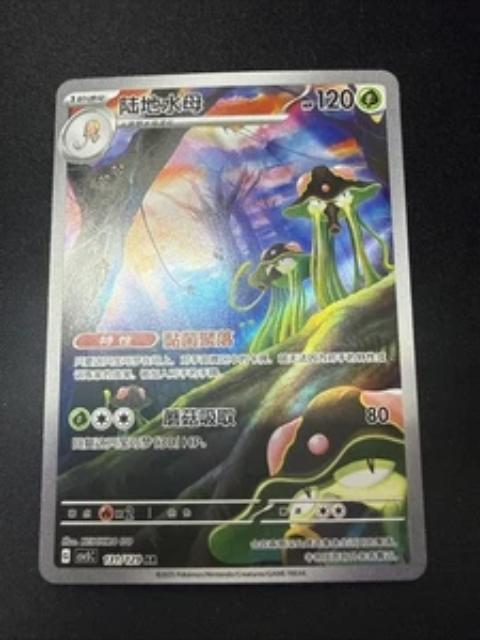Card: (33, 64, 433, 591)
Name: (114, 87, 207, 119)
